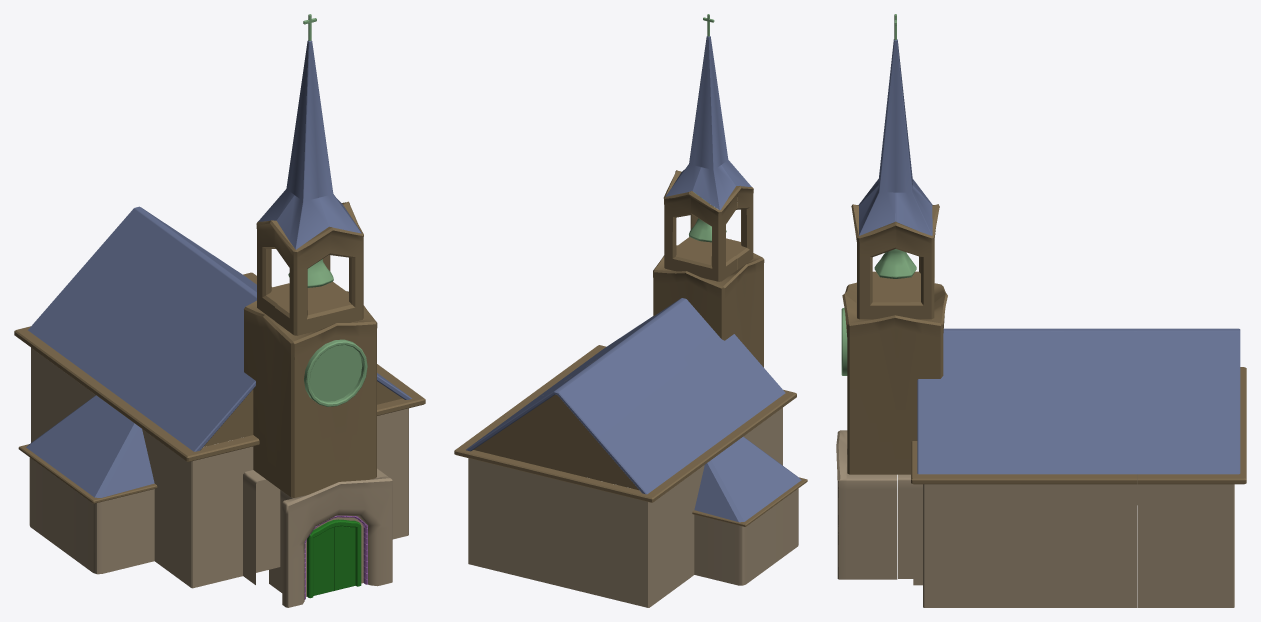
Rendered from temp church greybox.fbx.
The picture shows the model from 3 angles, left to right: view 1: azimuth 30°, elevation 25°; view 2: azimuth 150°, elevation 25°; view 3: azimuth 270°, elevation 25°; orthographic projection. The views are drawn at different scales.
Visible parts, largest first — view 1: polySurface28 (×2), polySurface51 (×3), RoofMiddle, BelltoweMiddle, polySurface56, polySurface25, Door_opening, BelltoweMiddle1, Roof, BellChamber, polySurface50 (×3), ChurchClock (+15 smaller); view 2: polySurface51 (×3), polySurface28 (×2), RoofMiddle, polySurface29, polySurface56, polySurface25, polySurface55, polySurface50 (×3), BelltoweMiddle3, Roof1, BellChamber3, BellChamber2 (+8 smaller); view 3: polySurface28 (×2), polySurface51 (×2), RoofMiddle, polySurface52, BelltoweMiddle1, ChurchBaseMiddle1, BelltoweMiddle2, Roof2, BellChamber1, polySurface50 (×2), Roof3, BellChamber2 (+4 smaller).
Part boxes in pixels (x1,y1,x2,y2): polySurface28 (×2): (28,206,411,451); polySurface51 (×3): (31,347,408,588); RoofMiddle: (81,245,256,412); BelltoweMiddle: (263,315,337,497); polySurface56: (29,457,154,574); polySurface25: (26,395,154,497); Door_opening: (282,476,392,607); BelltoweMiddle1: (335,305,377,482); Roof: (276,41,328,249); BellChamber: (270,220,332,335); polySurface50 (×3): (14,326,425,461); ChurchClock: (304,339,367,406); polySurface51 (×3): (468,407,782,607); polySurface28 (×2): (466,298,785,494); RoofMiddle: (512,322,741,461); polySurface29: (473,394,638,490); polySurface56: (694,488,798,585); polySurface25: (694,436,801,522); polySurface55: (541,476,576,590); polySurface50 (×3): (454,389,796,502); BelltoweMiddle3: (685,264,747,344); Roof1: (692,36,735,209); BellChamber3: (689,185,741,281); BellChamber2: (663,170,708,272); polySurface28 (×2): (917,328,1240,474); polySurface51 (×2): (923,484,1234,607); RoofMiddle: (1021,328,1137,474); polySurface52: (1021,484,1136,607); BelltoweMiddle1: (842,294,895,474); ChurchBaseMiddle1: (846,455,897,579); BelltoweMiddle2: (895,294,947,474); Roof2: (895,40,932,235); BellChamber1: (851,204,896,319); polySurface50 (×2): (911,432,1246,484); Roof3: (859,40,896,235); BellChamber2: (895,204,939,319).
Bounding box in the file's own units: 16.73 × 32.45 × 21.04.
